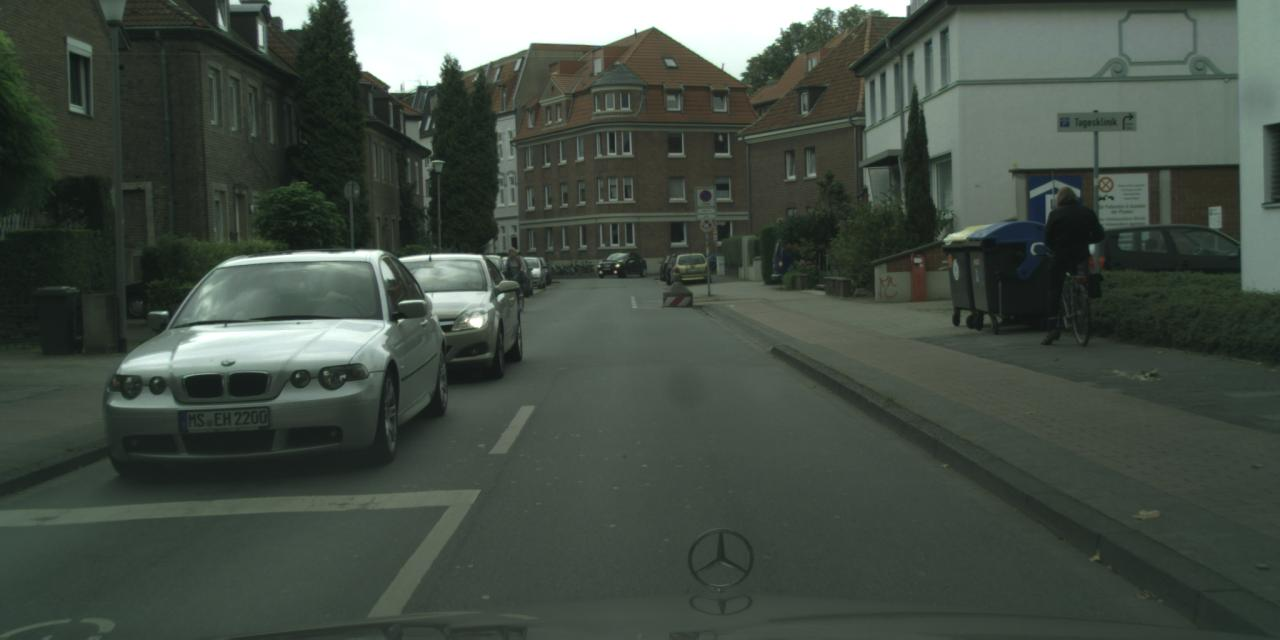ped: (1040, 186, 1094, 317), (502, 247, 524, 300)
